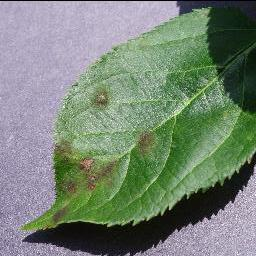apple healthy: (18, 4, 255, 233)
